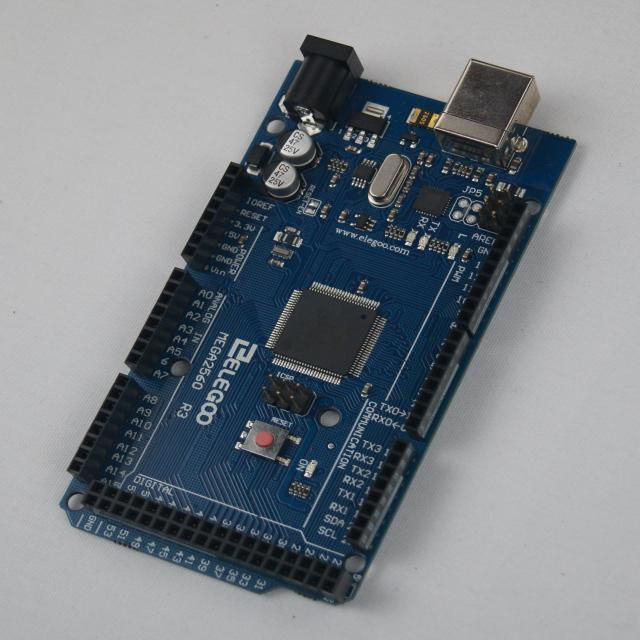Arduino Mega 2560 -Blue-: (64, 37, 575, 605)
